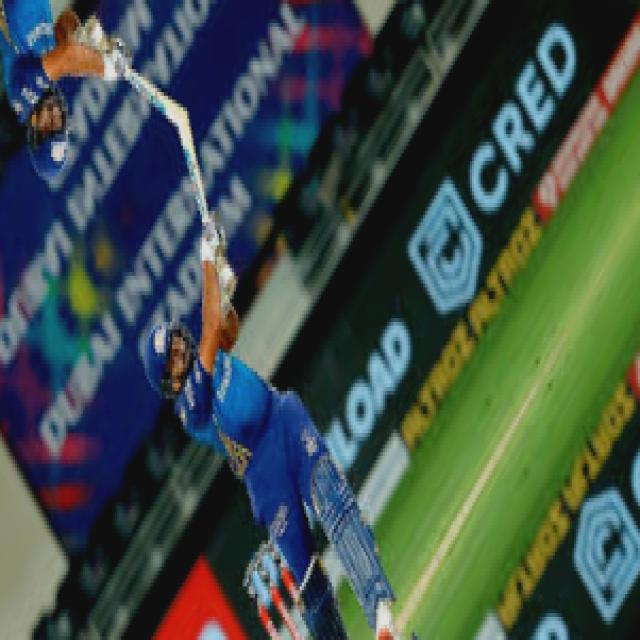toe: (168, 111, 200, 151)
